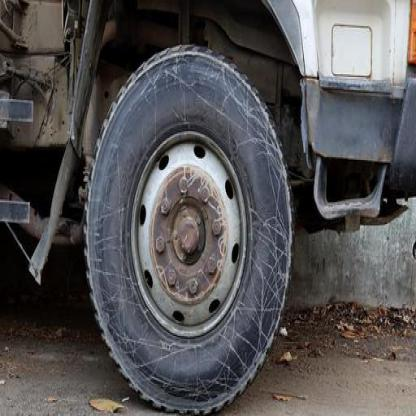Tire: (82, 44, 296, 414)
